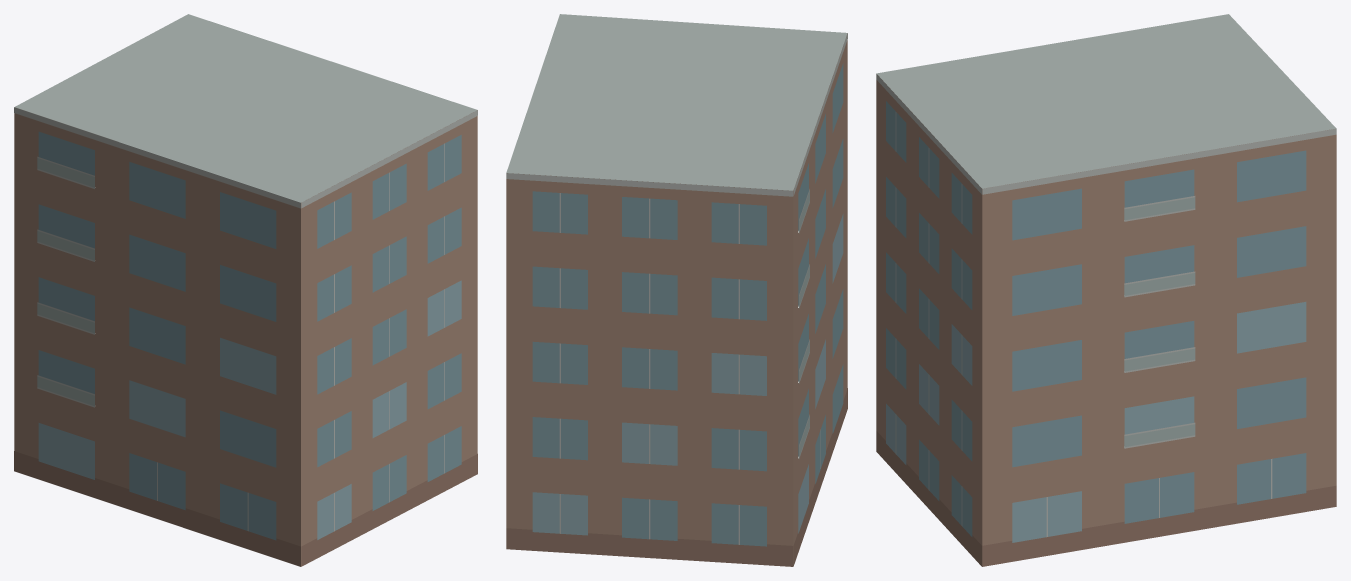
Rendered from survey-upis-32996347.glb.
3 views of the same model, side by side, from view 1: azimuth 30°, elevation 25°; view 2: azimuth 150°, elevation 25°; view 3: azimuth 270°, elevation 25° (orthographic). The views are drawn at different scales.
Visible parts, largest first — view 1: survey-upis-32996347.tmp; view 2: survey-upis-32996347.tmp; view 3: survey-upis-32996347.tmp.
Boxes of the visible parts, x1,y1,x2,y2 form: survey-upis-32996347.tmp: [14, 14, 477, 566]; survey-upis-32996347.tmp: [506, 14, 847, 566]; survey-upis-32996347.tmp: [876, 14, 1336, 566].
Bounding box in the file's own units: 15.12 × 15.25 × 16.83.
